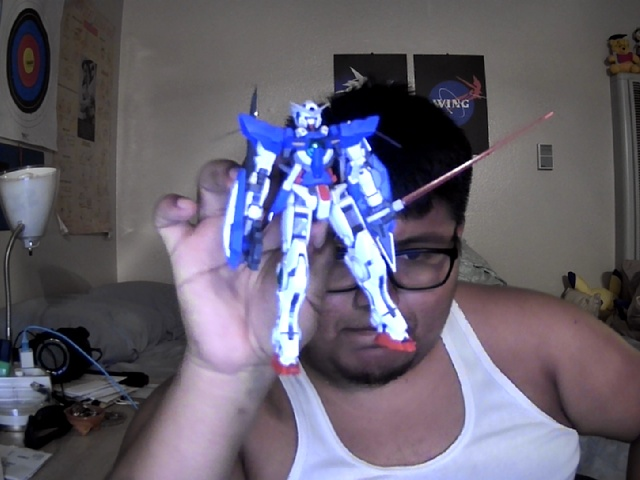Exia: (221, 86, 557, 378)
